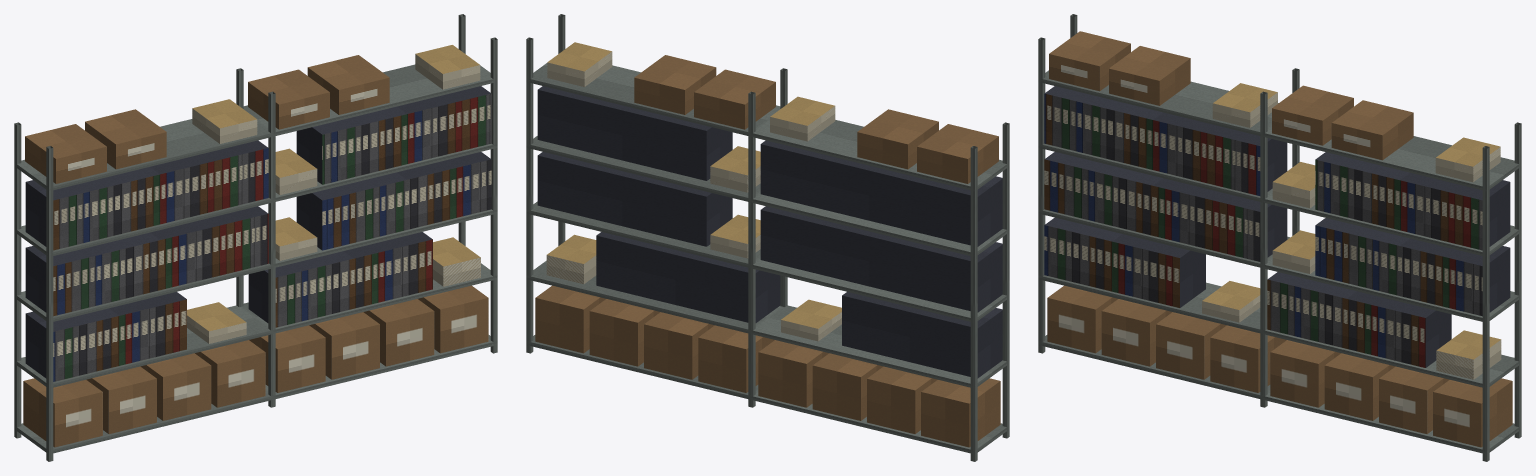
The model's file is Shelves_Documents_Long.fbx.
3 renders of one model, left to right at view 1: azimuth 30°, elevation 25°; view 2: azimuth 150°, elevation 25°; view 3: azimuth 330°, elevation 25°, orthographic.
Parts seen in each view (by area): view 1: стеллаж с документами длинный; view 2: стеллаж с документами длинный; view 3: стеллаж с документами длинный.
Boxes of the visible parts, box(x1,y1,x2,y2) form: стеллаж с документами длинный: box(14, 14, 497, 461); стеллаж с документами длинный: box(526, 14, 1009, 461); стеллаж с документами длинный: box(1038, 14, 1521, 461).
Size of the model in its own units: 3 by 2 by 0.4.
Materials: 1 (1 with a texture image).
